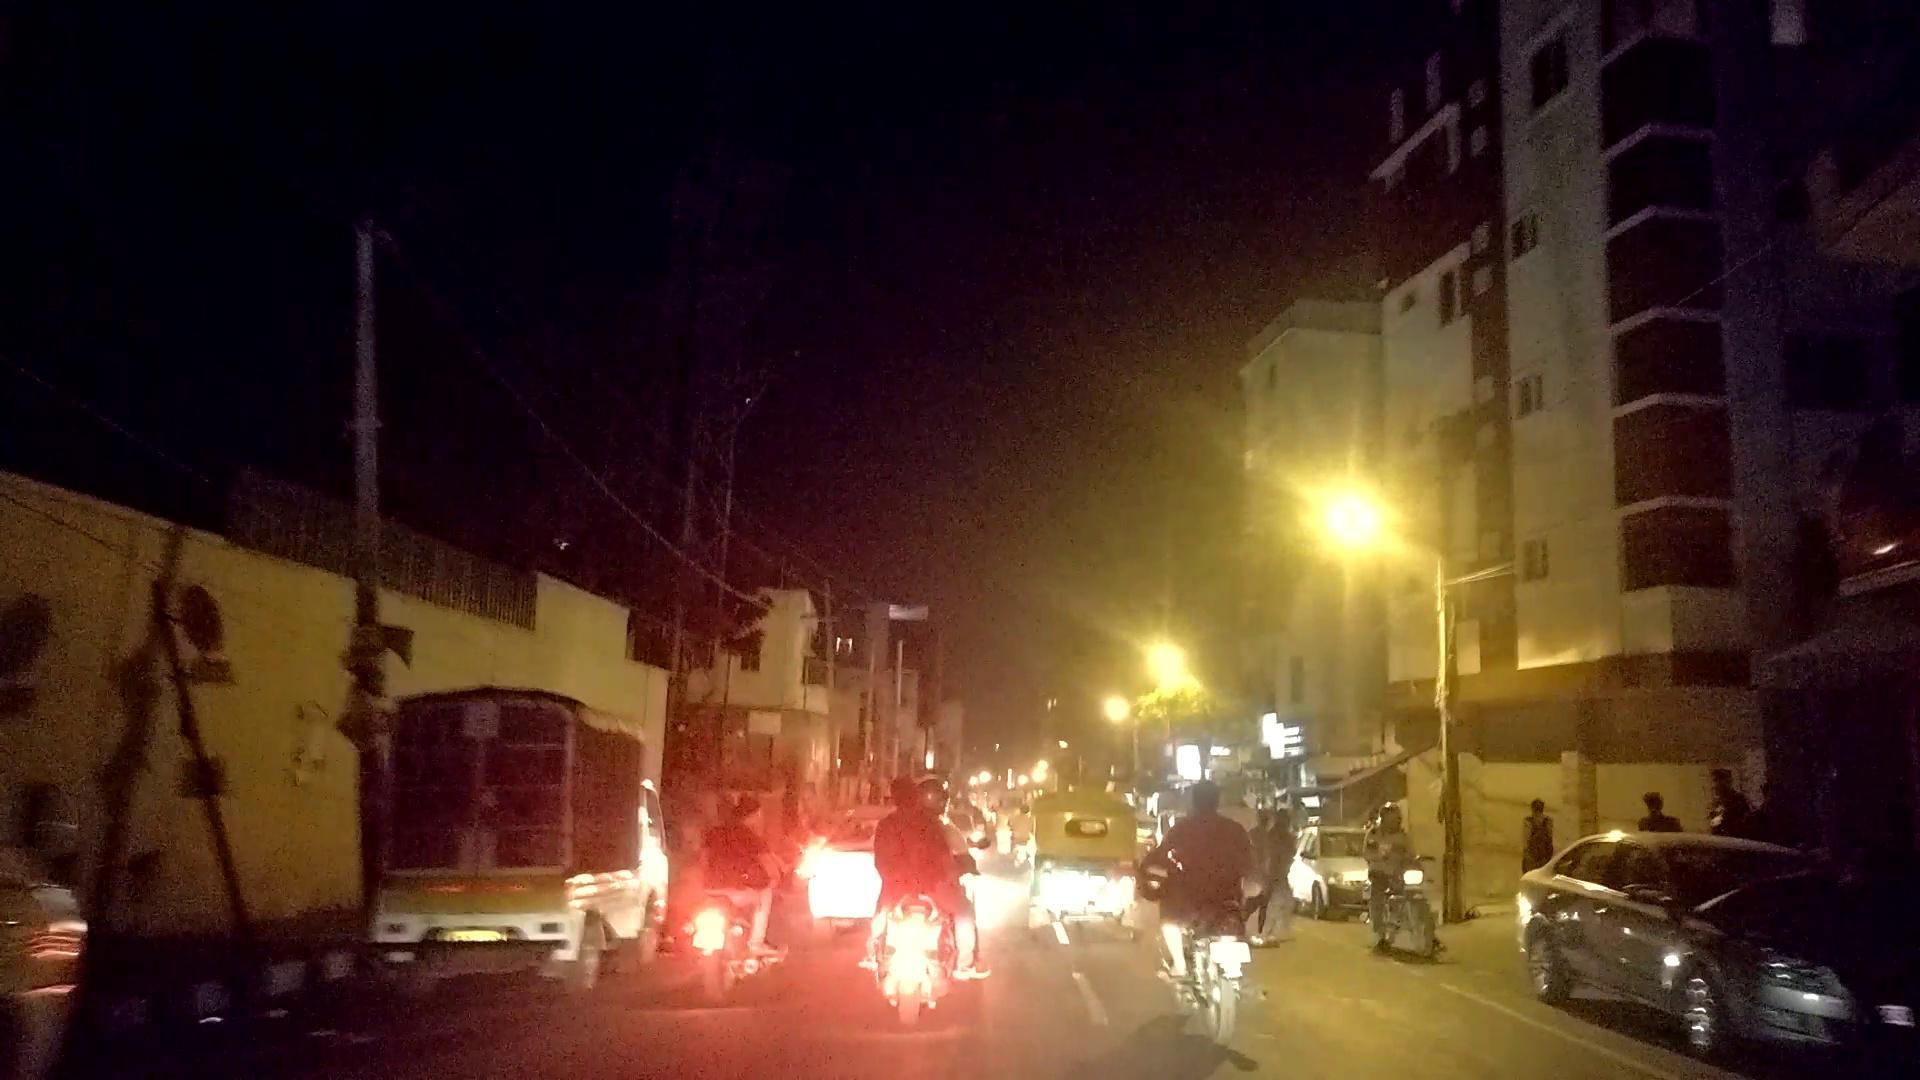on: (1180, 402, 1559, 683)
